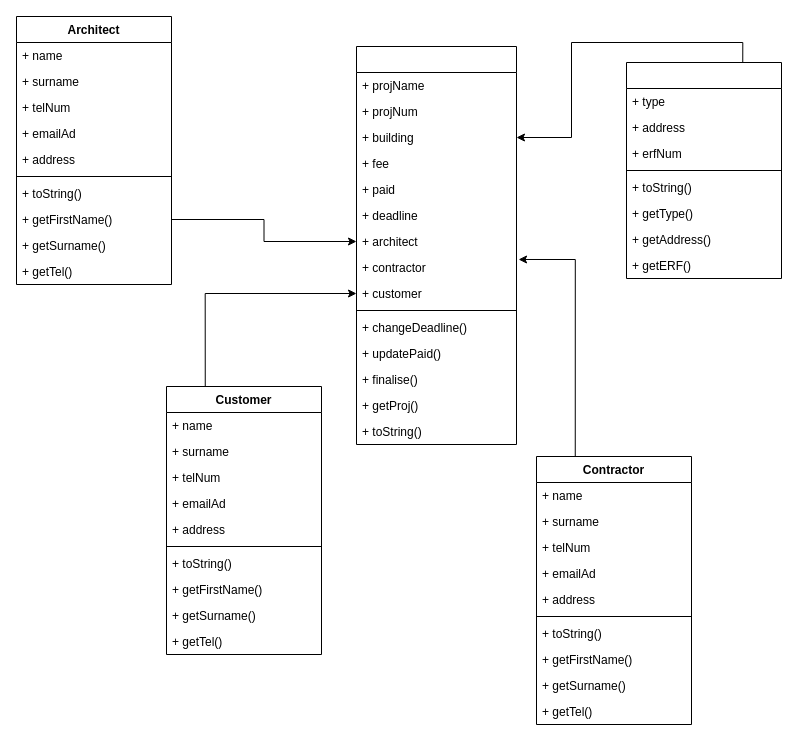
Image size: 798x741. Some labels were removed from this diagram. Each missing label, with the box of its shape:
Building: (626, 62, 782, 278)
Project: (356, 46, 516, 444)
